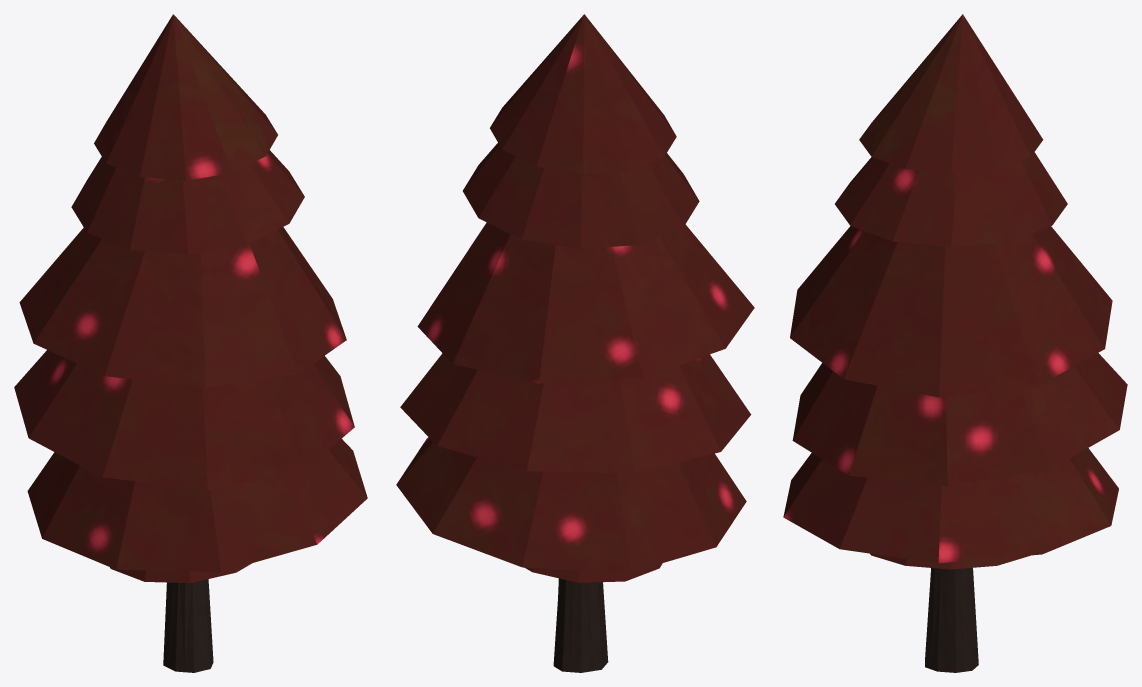
Rendered from tree-purple-red-flowers_3.fbx.
3 views of the same model, side by side, from view 1: azimuth 30°, elevation 25°; view 2: azimuth 150°, elevation 25°; view 3: azimuth 270°, elevation 25° (orthographic).
Visible parts, largest first — view 1: Cylinder.033; view 2: Cylinder.033; view 3: Cylinder.033.
Part boxes in pixels (<box>): Cylinder.033: <box>14,14,367,672</box>; Cylinder.033: <box>396,14,754,672</box>; Cylinder.033: <box>783,14,1127,672</box>.
Size of the model in its own units: 139 by 279 by 135.
